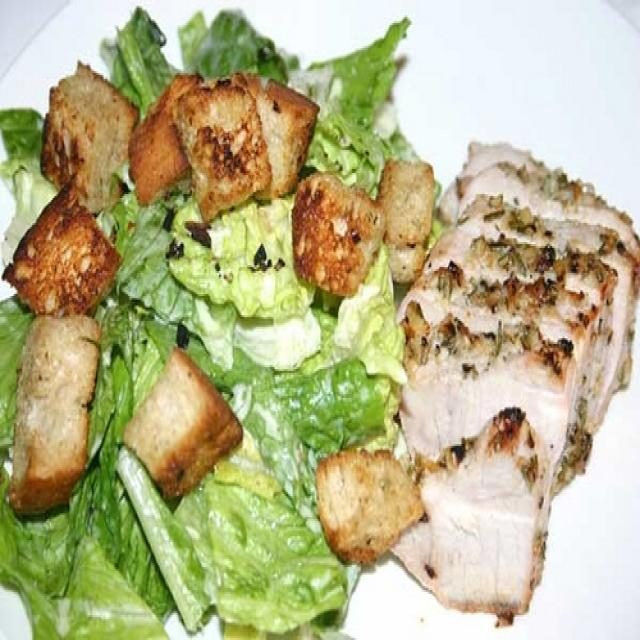猪肉菜式: (11, 36, 594, 621)
